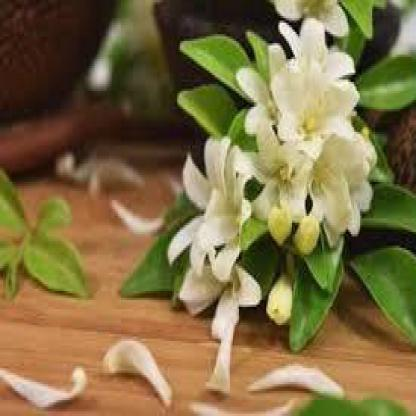Melati: (216, 29, 385, 263), (169, 119, 269, 333)
